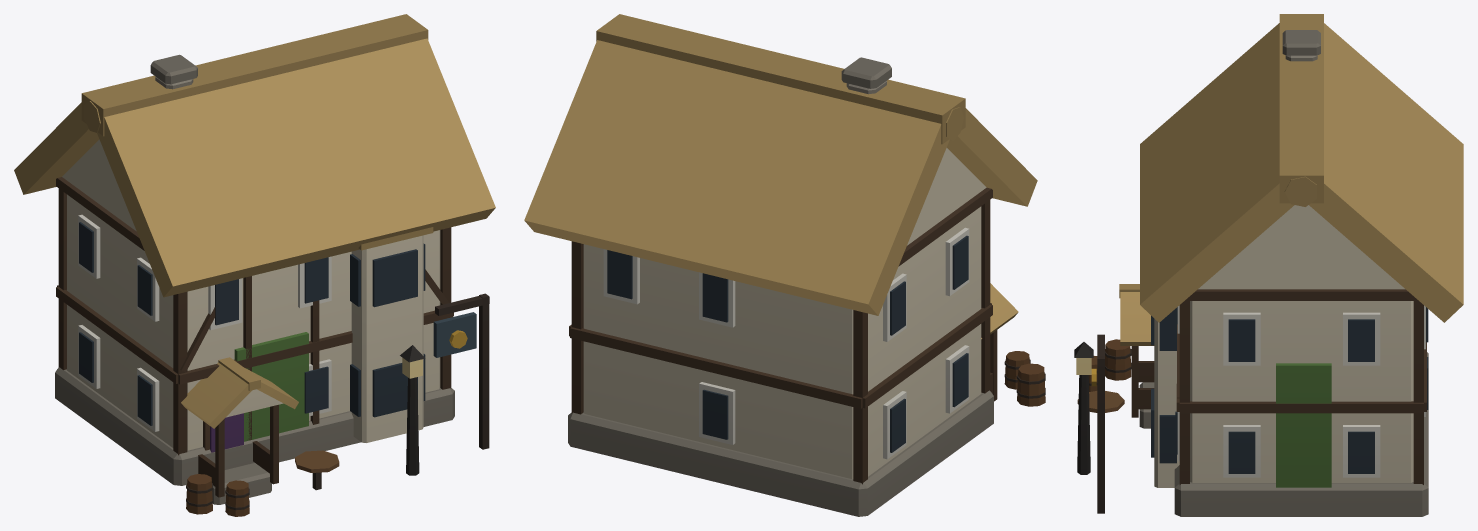
File: tavern.glb
3 renders of one model, left to right at view 1: azimuth 30°, elevation 25°; view 2: azimuth 150°, elevation 25°; view 3: azimuth 270°, elevation 25°, orthographic. The views are drawn at different scales.
Visible parts, largest first — view 1: tavern_model; view 2: tavern_model; view 3: tavern_model.
Boxes of the visible parts, x1,y1,x2,y2 form: tavern_model: (14,14,495,516); tavern_model: (524,14,1045,516); tavern_model: (1074,14,1463,516).
Size of the model in its own units: 0.9 by 0.9866 by 0.9117.
